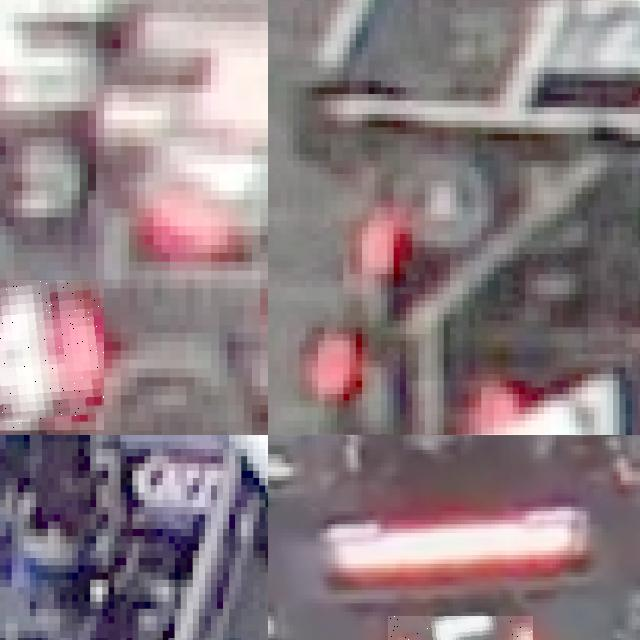R1: (462, 360, 640, 435)
R4: (0, 279, 104, 430)
R5: (388, 616, 533, 640)
